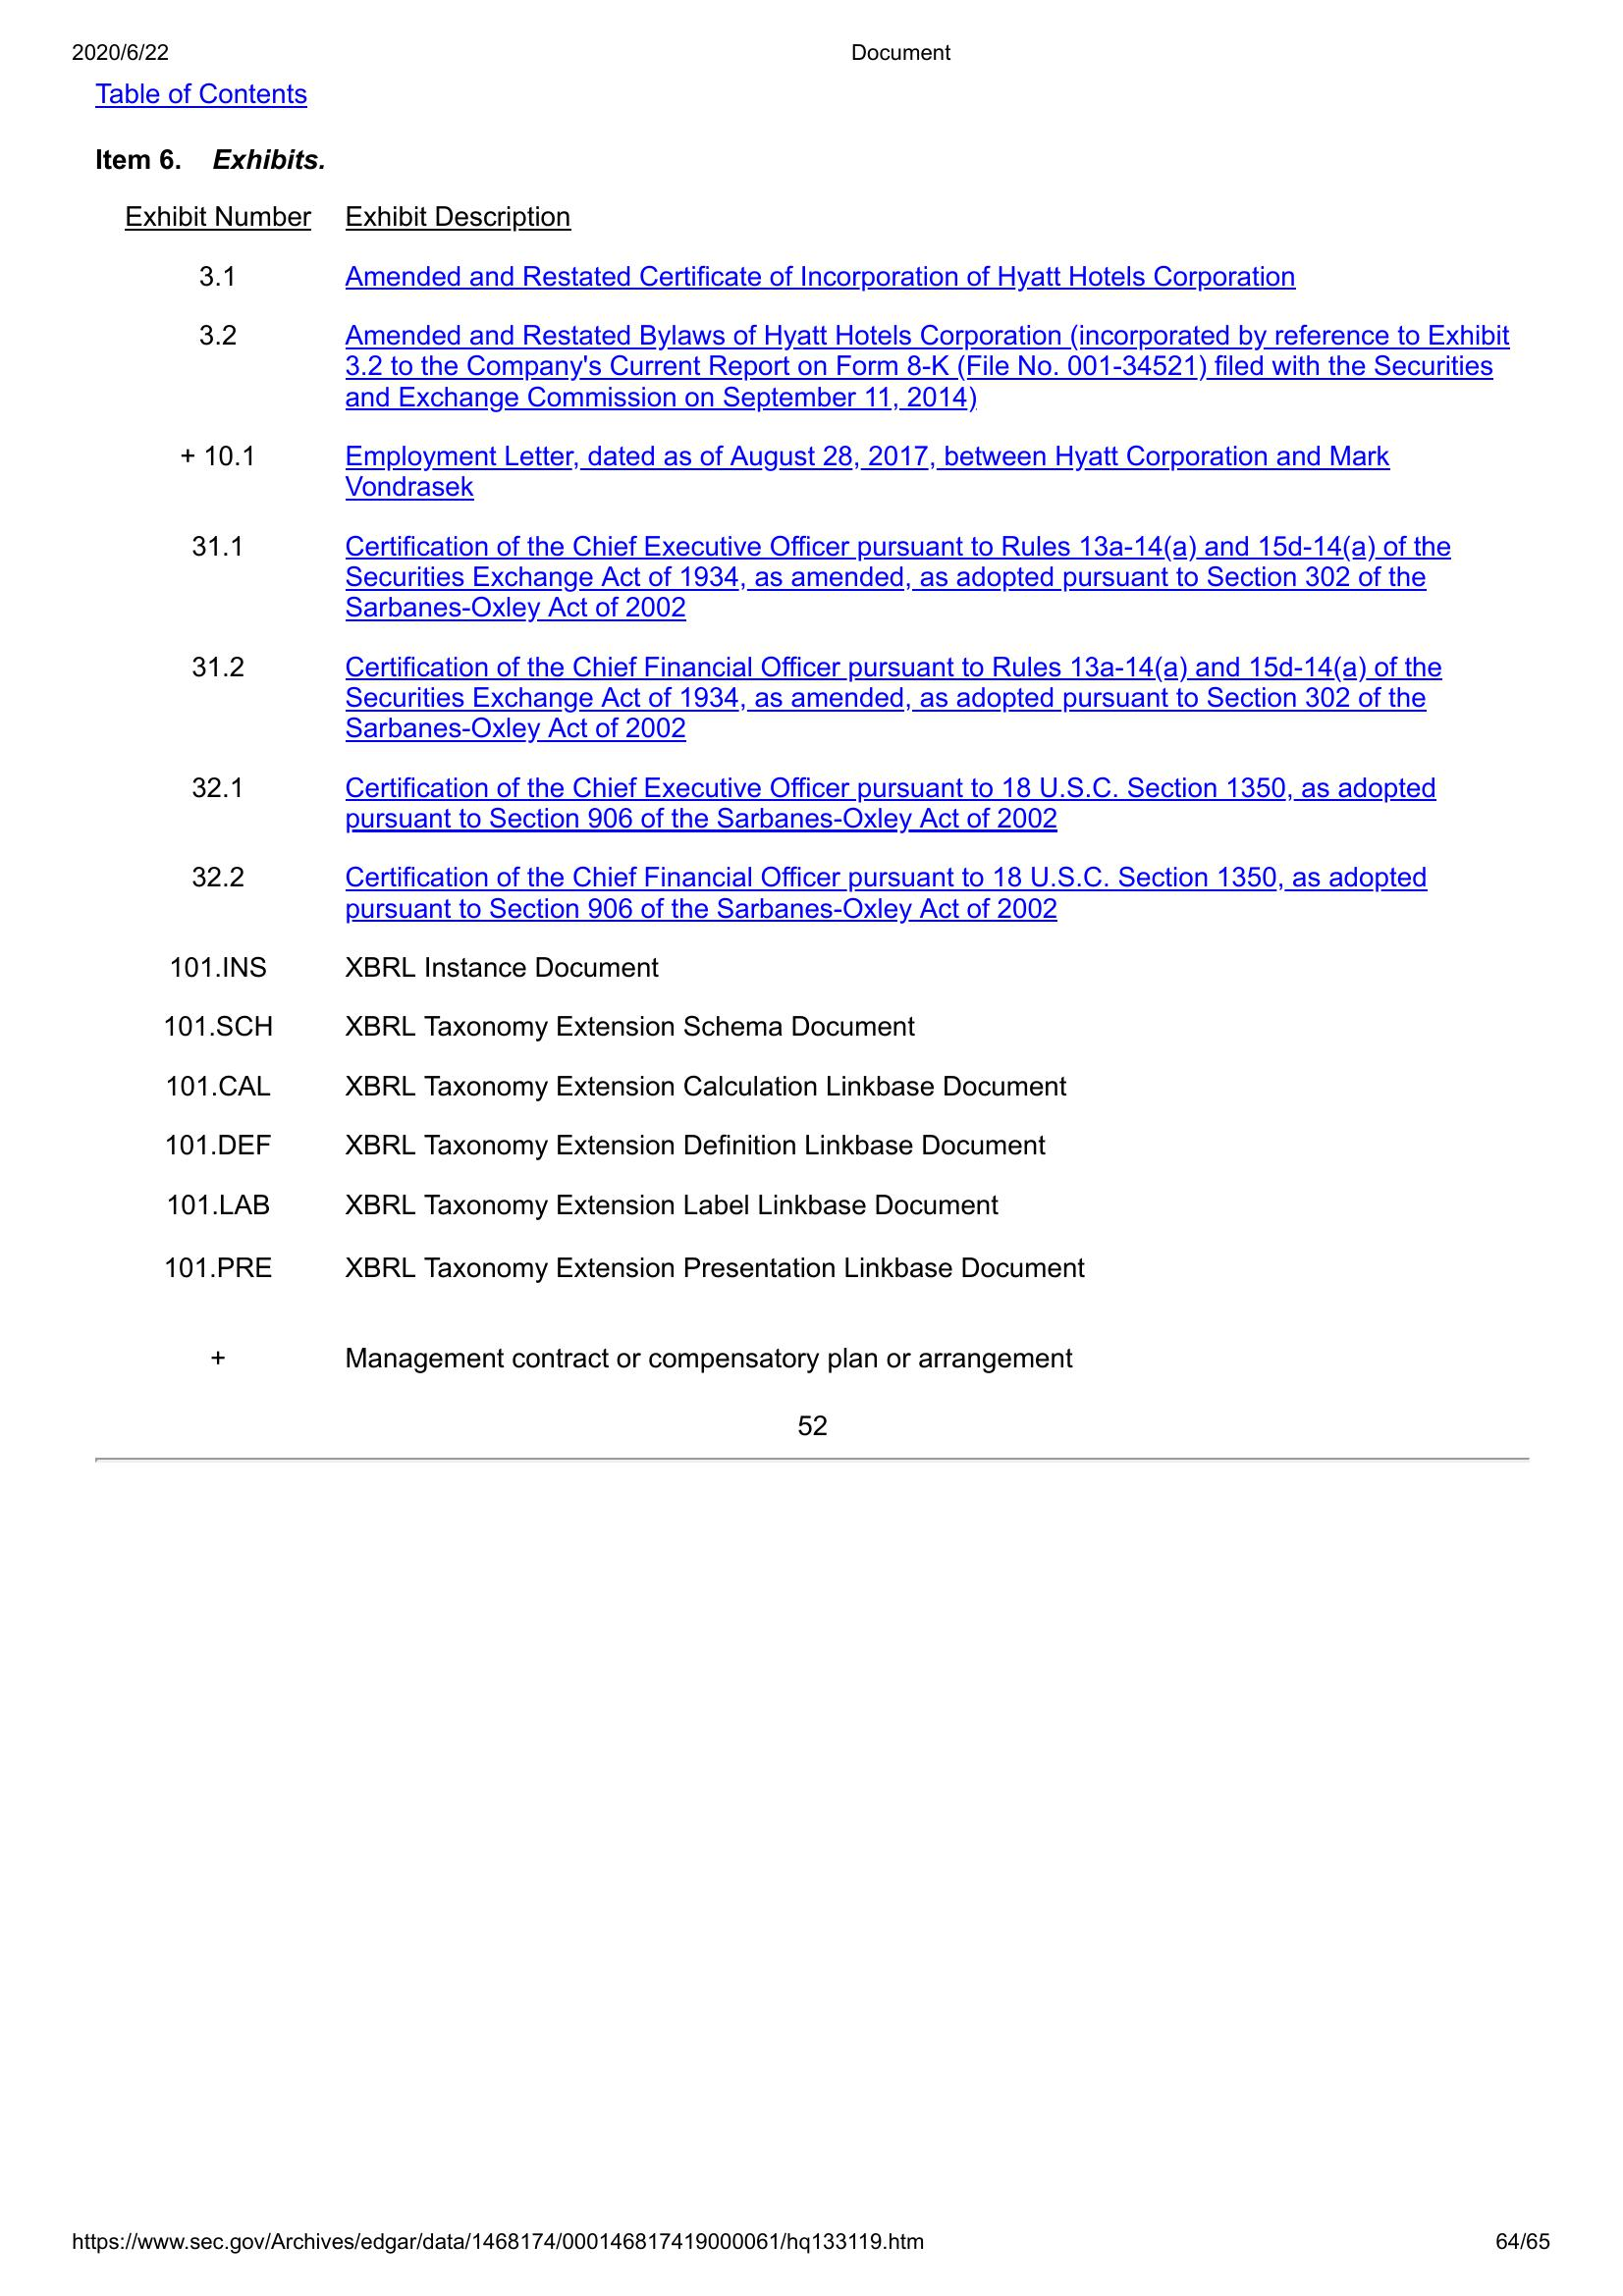table: (116, 195, 1521, 1290)
